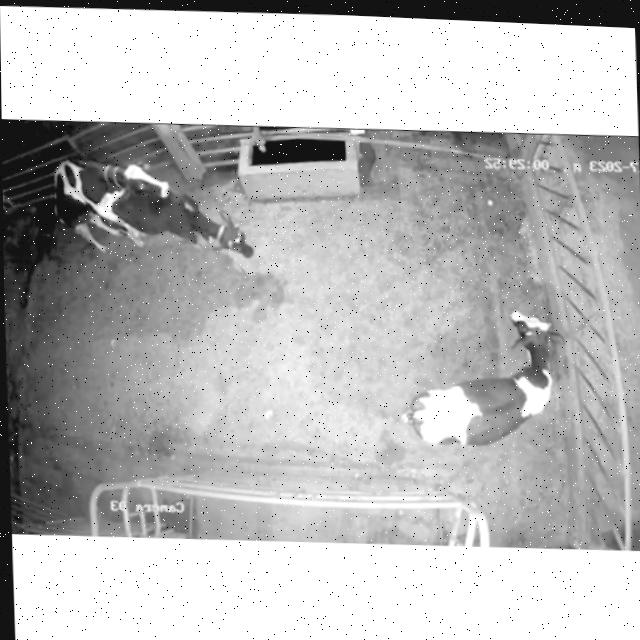ride: (43, 144, 179, 272)
